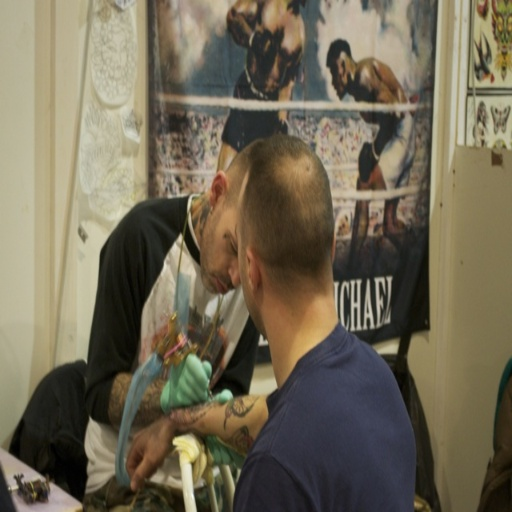hand: (112, 409, 179, 492), (200, 385, 244, 472), (160, 349, 211, 410)
